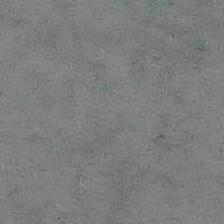Non_Crack: (30, 38, 214, 198)
